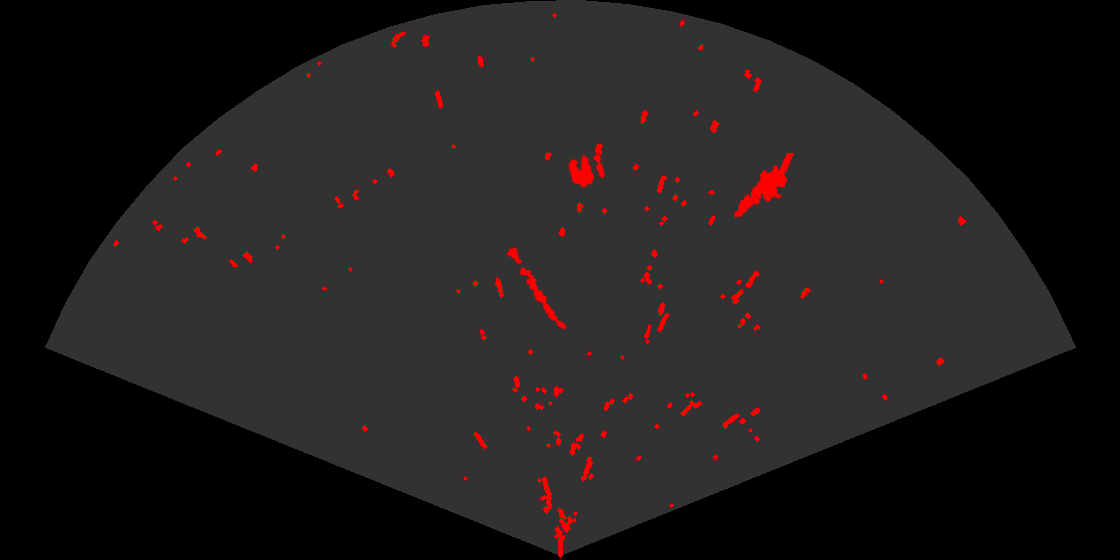ball: (567, 152, 607, 189)
chain: (506, 246, 568, 331)
frogman: (732, 153, 796, 219)
